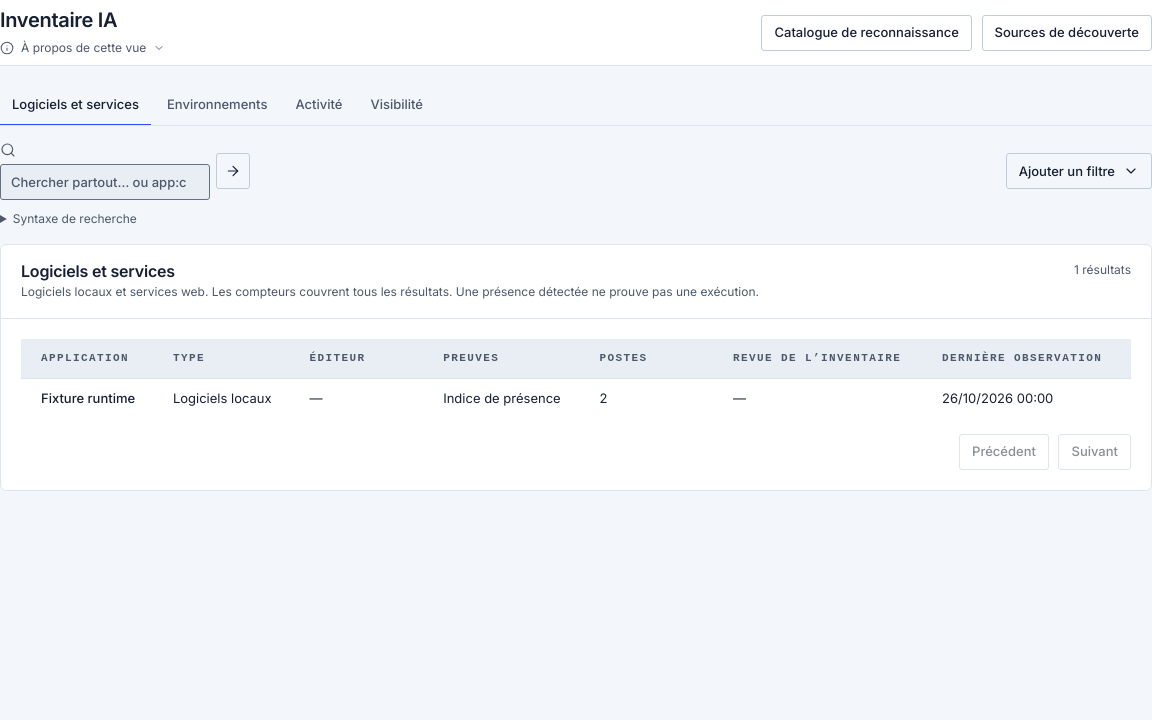
Unified discovery hub › keeps inventory presence in the unified list without rendering a second inventory
The image size is (1152, 720).
Step 1. Click the button "Fixture runtime" → (88, 398), box [41,389,135,408]
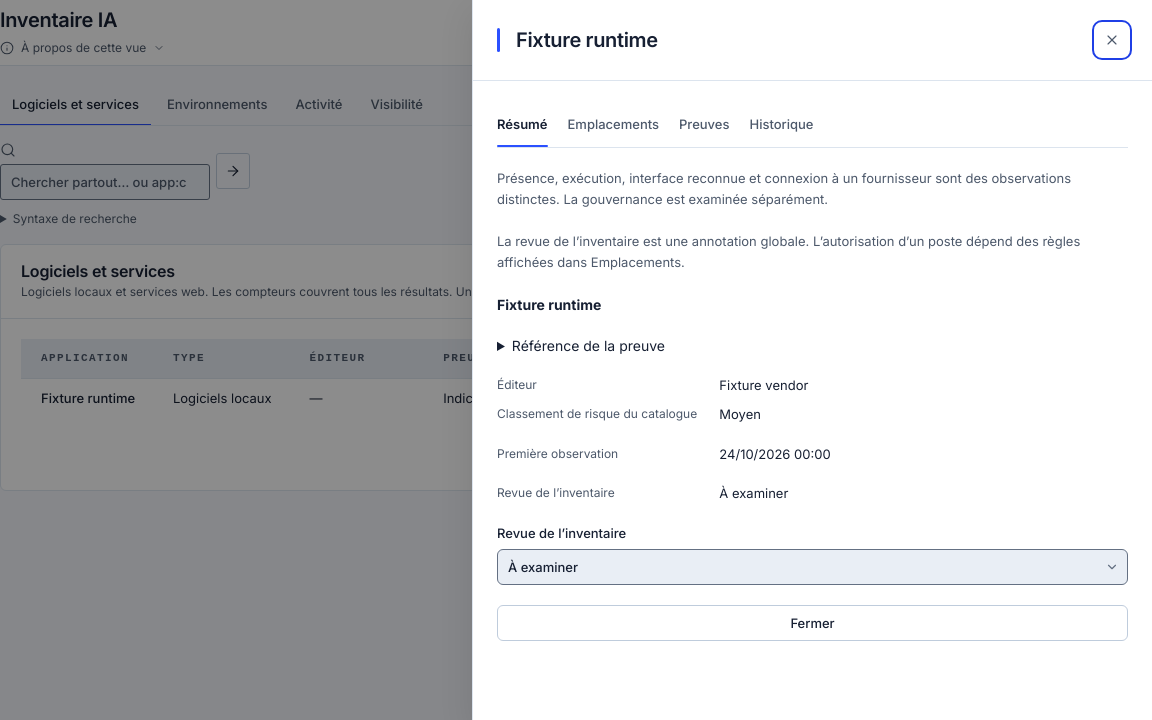
expect the text "Fixture vendor" is shown: met, box [719,377,808,393]
expect the text titled "2026-10-24T00:00:00Z" is shown: met, box [719,446,831,462]
Step 2. Click the button "Preuves" → (704, 126), box [679,105,729,147]
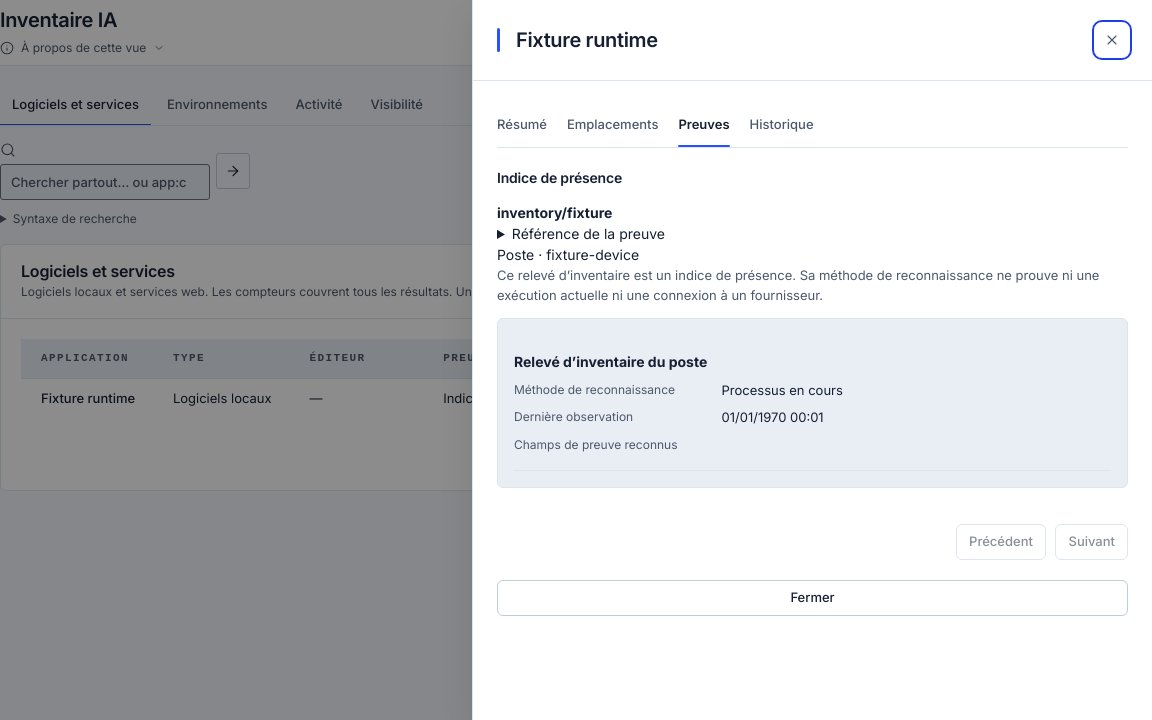
expect the text "Relevé d’inventaire du poste" is shown: met, box [514,353,707,370]
expect the text "Sa méthode de reconnaissance ne prouve ni une exécution actuelle" is shown: met, box [497,267,1100,303]
